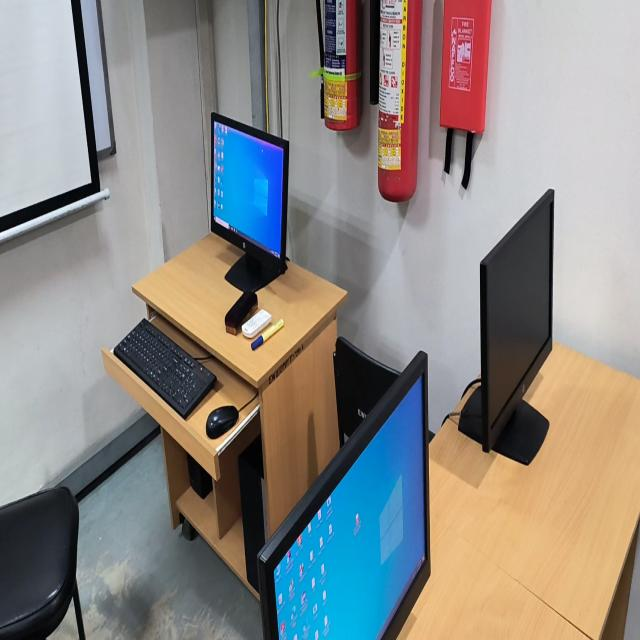Chair: (0, 487, 85, 639), (334, 337, 400, 440)
Cpu: (239, 435, 267, 593)
Fire Extinguisher: (371, 0, 421, 201), (317, 0, 362, 130)
Keyboard: (114, 319, 216, 418)
Monitor: (257, 351, 429, 639), (458, 190, 553, 465), (211, 113, 289, 304)
Mouse: (206, 406, 239, 439)
